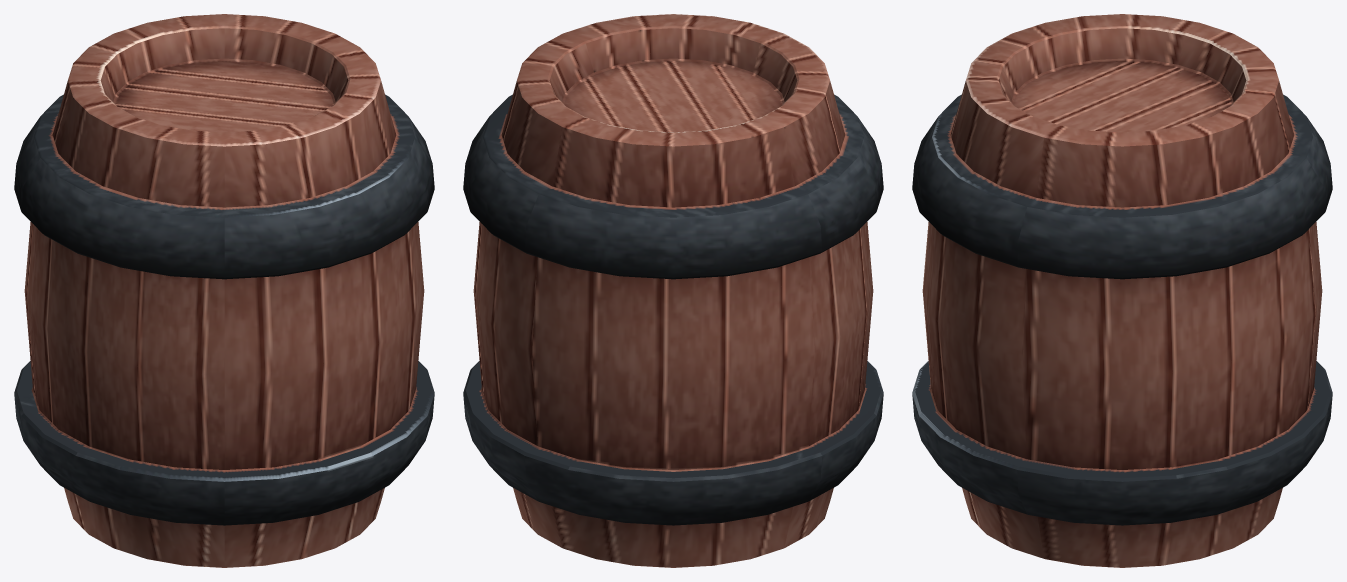
Rendered from FIG0110005.FBX.
The picture shows the model from 3 angles, left to right: view 1: azimuth 30°, elevation 25°; view 2: azimuth 150°, elevation 25°; view 3: azimuth 270°, elevation 25°; orthographic projection.
Visible parts, largest first — view 1: smFIG0110005; view 2: smFIG0110005; view 3: smFIG0110005.
Part boxes in pixels (x1,y1,x2,y2): smFIG0110005: [14, 14, 434, 567]; smFIG0110005: [463, 14, 883, 567]; smFIG0110005: [912, 14, 1332, 567].
Bounding box in the file's own units: 0.8806 × 0.9785 × 0.8806.
1 material, 1 textured.
